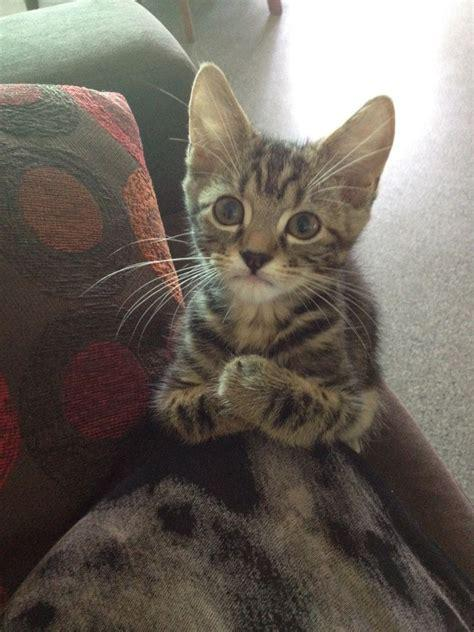cat: (155, 62, 394, 443)
